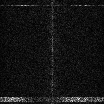wifi: (1, 96, 104, 102)
